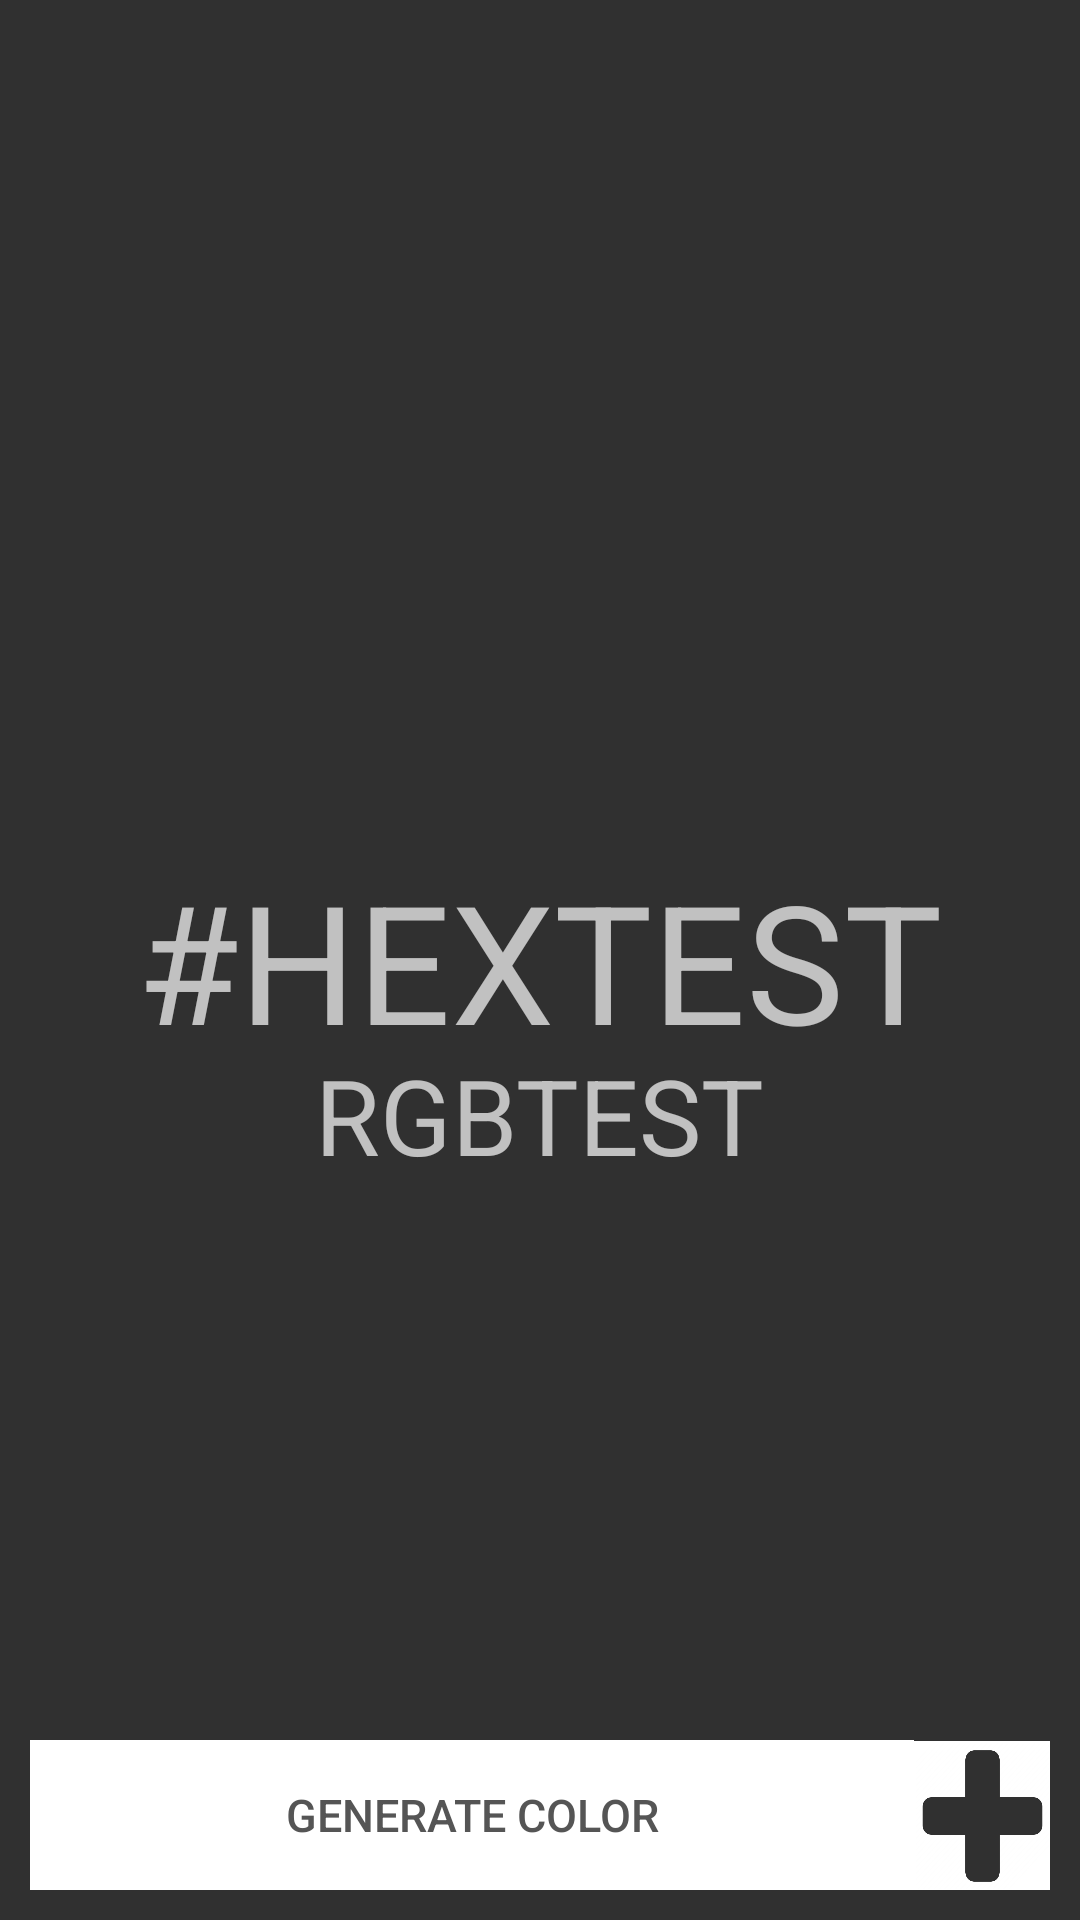

Named icons in this screenshot (1080w x 1920h) and their centers, point (x, y):
add bt: point (982, 1815)
